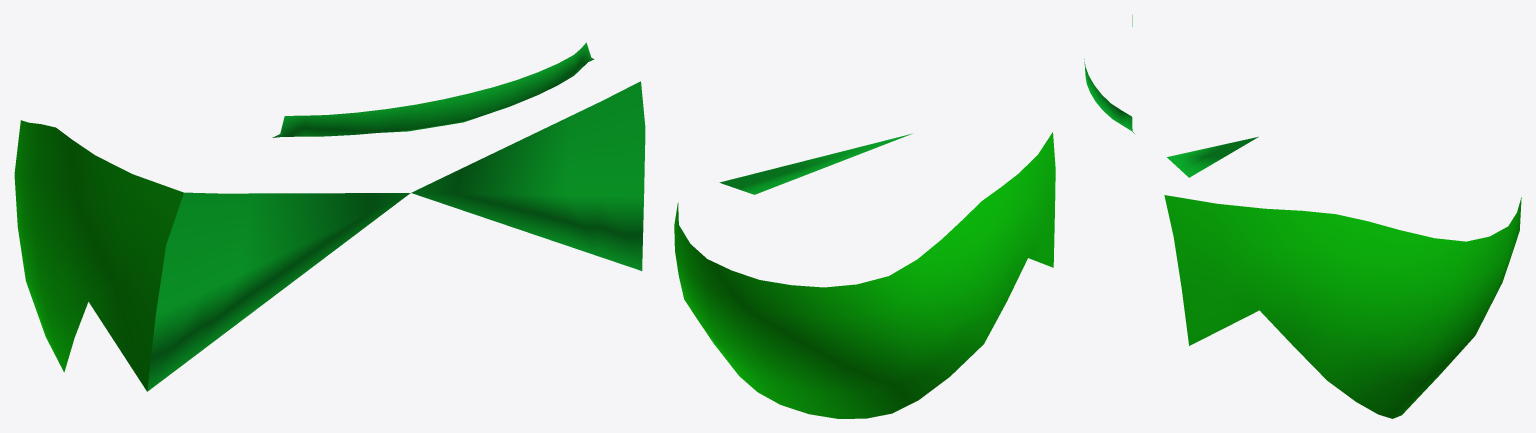
File: Hair2_36.glb
3 views of the same model, side by side, from view 1: azimuth 30°, elevation 25°; view 2: azimuth 150°, elevation 25°; view 3: azimuth 270°, elevation 25° (orthographic). The views are drawn at different scales.
Bounding box in the file's own units: 52.81 × 47.2 × 55.91.
